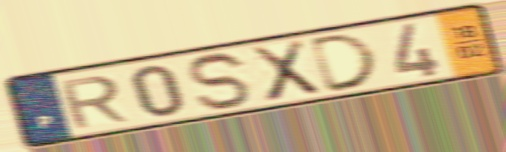0: (127, 63, 189, 119)
4: (392, 20, 443, 79)
D: (308, 30, 383, 96)
R: (56, 73, 131, 132)
S: (186, 49, 256, 113)
X: (246, 37, 324, 105)
